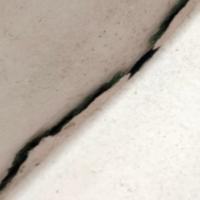crack: (0, 0, 183, 193)
